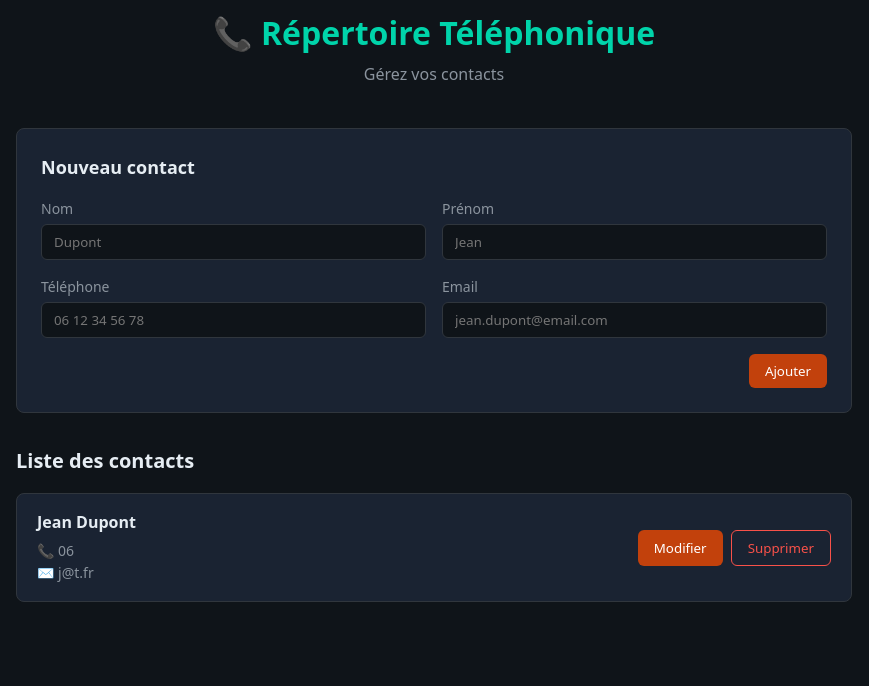
Test: App › affiche une erreur si la mise à jour échoue
Expected: the heading "Jean Dupont" is shown, [37,510,136,536]
Click the button "Modifier". click: [680, 548]
box: [638,530,723,566]
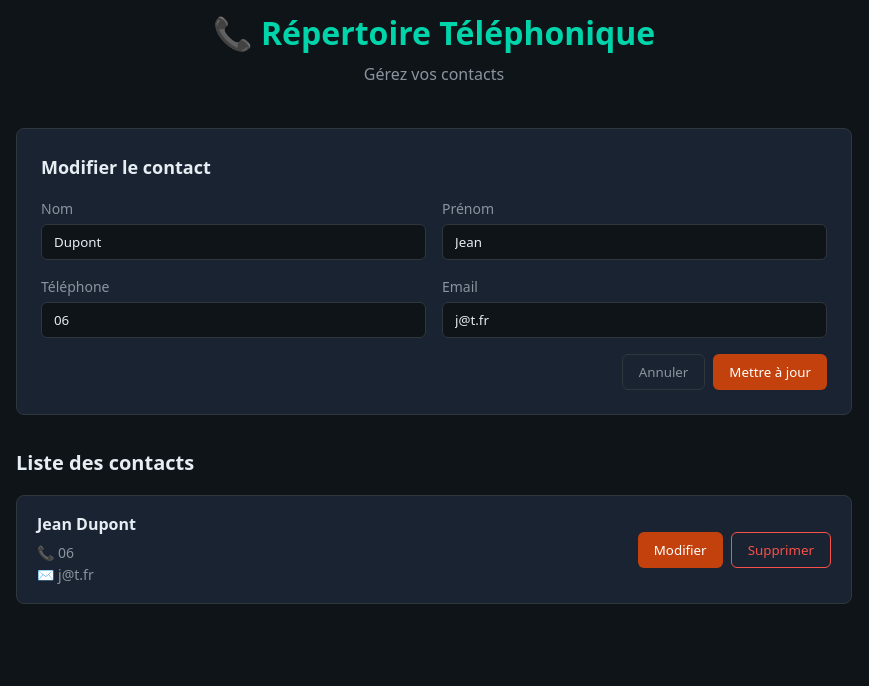
Now the button "Mettre à jour" is shown, box [713,354,827,390]
Type "X" into the 1st field with placeholder "Dupont". click: [234, 242]
box: [41,224,426,260]
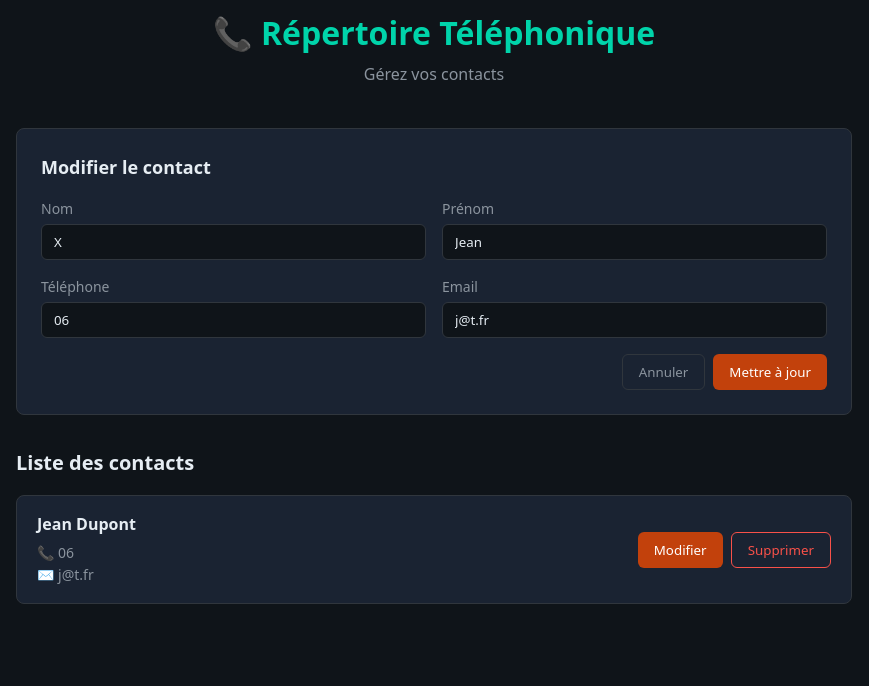
Click the button "Mettre à jour". click: [770, 372]
box: [713,354,827,390]
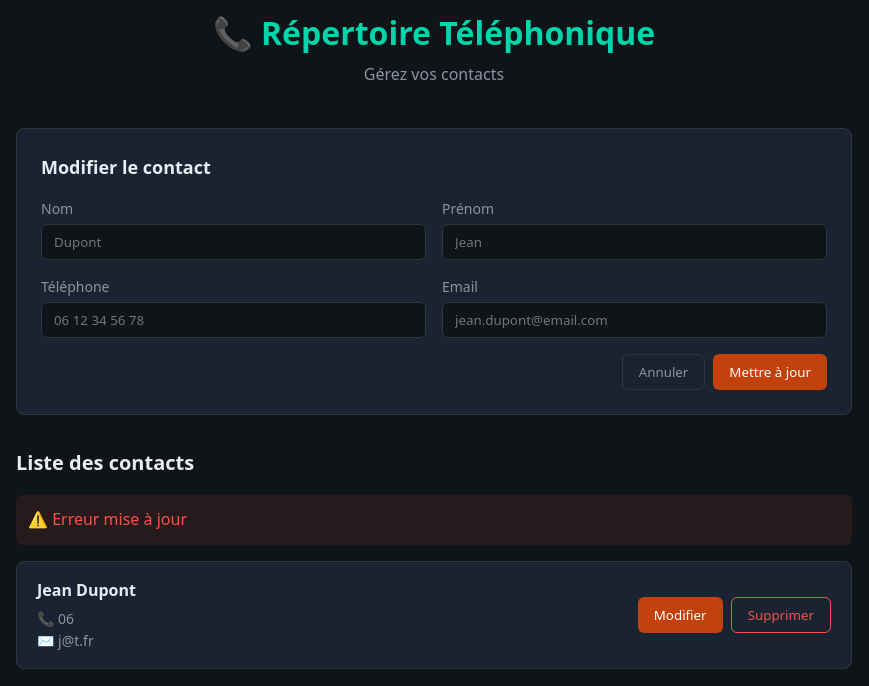
Now the text "⚠️ Erreur mise à jour" is shown, box [16,495,852,545]
